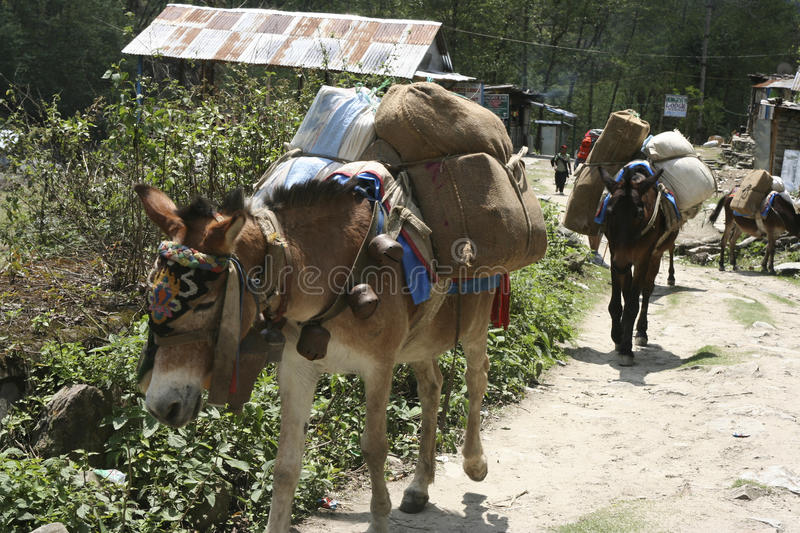equine: (117, 162, 509, 533), (585, 157, 693, 379), (707, 176, 800, 296)
